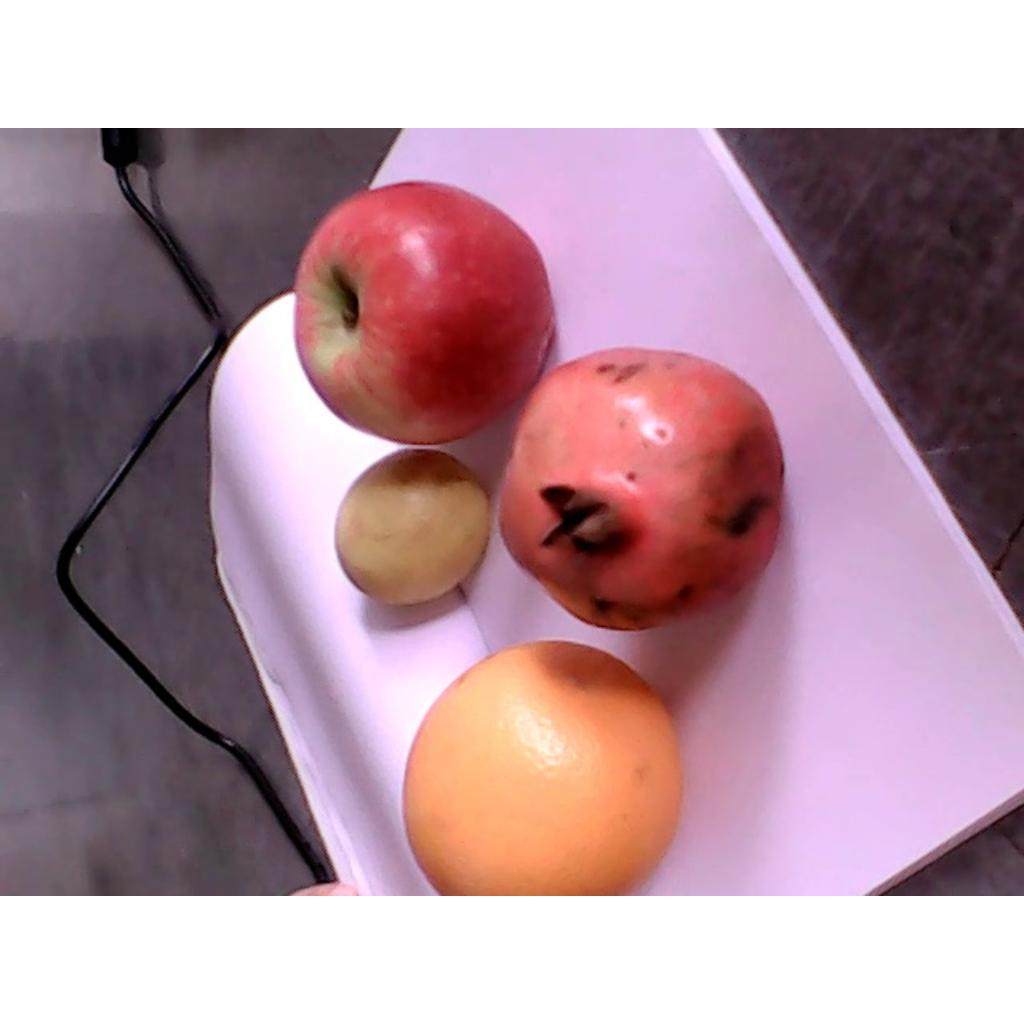apple: (293, 181, 557, 447)
lemon: (334, 449, 489, 604)
orange: (495, 347, 785, 633), (403, 640, 684, 894)
